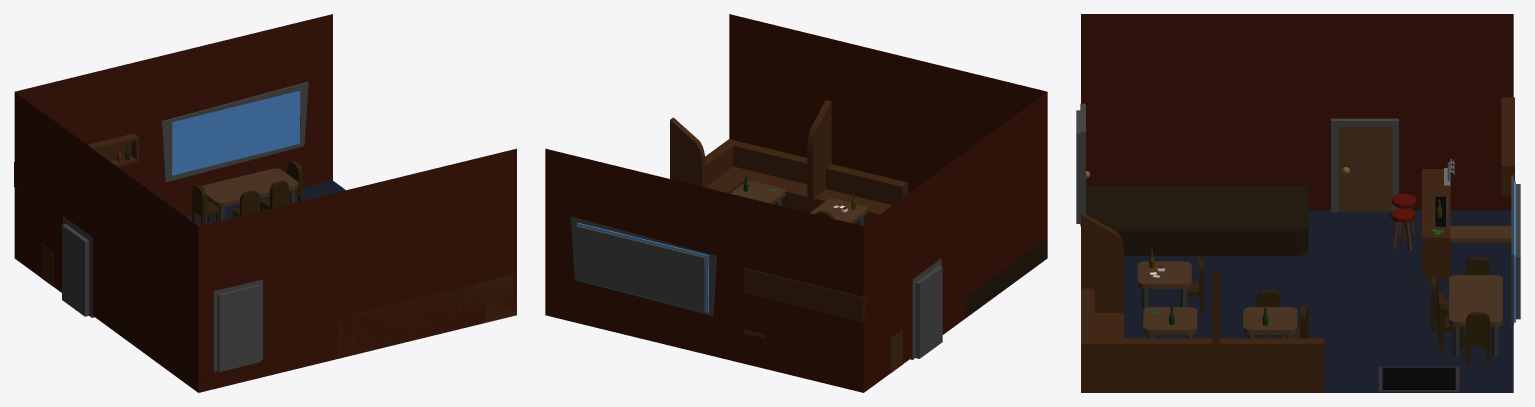
The model's file is Bar.glb.
The picture shows the model from 3 angles, left to right: view 1: azimuth 30°, elevation 25°; view 2: azimuth 150°, elevation 25°; view 3: azimuth 270°, elevation 25°; orthographic projection. The views are drawn at different scales.
Visible parts, largest first — view 1: Left Wall, Front Wall, RightWall, Window, Couch, DoorStage, DoorBack, Table.001, Shelf, Stage1, Floor, Chair7 (+3 smaller); view 2: RightWall, Left Wall, Front Wall, Window, Couch, Shelf, DoorBack, Blocker2, Blocker1, Stage1, Table.002, Table.003 (+2 smaller); view 3: Front Wall, Floor, Couch, Stage2, Stage1, DoorBackInside, Blocker1, Table.001, Bar, DoorBack, Table.002, Exit1 (+16 smaller).
Part boxes in pixels (x1,y1,x2,y2): Left Wall: [198, 148, 516, 392]; Front Wall: [14, 92, 198, 392]; RightWall: [15, 14, 332, 216]; Window: [161, 81, 308, 182]; Couch: [337, 274, 516, 358]; DoorStage: [213, 279, 262, 372]; DoorBack: [62, 216, 94, 317]; Table.001: [202, 168, 298, 220]; Shelf: [14, 133, 139, 188]; Stage1: [143, 332, 244, 392]; Floor: [186, 180, 345, 226]; Chair7: [192, 184, 219, 225]; RightWall: [545, 148, 863, 392]; Left Wall: [729, 14, 1047, 193]; Front Wall: [863, 92, 1047, 392]; Window: [570, 216, 716, 316]; Couch: [705, 139, 908, 225]; Shelf: [743, 268, 866, 322]; DoorBack: [910, 258, 942, 359]; Blocker2: [670, 117, 705, 187]; Blocker1: [807, 100, 831, 203]; Stage1: [997, 238, 1047, 294]; Table.002: [810, 198, 867, 226]; Table.003: [730, 181, 785, 205]; Front Wall: [1081, 14, 1513, 209]; Floor: [1124, 210, 1513, 392]; Couch: [1081, 288, 1324, 392]; Stage2: [1200, 185, 1308, 255]; Stage1: [1086, 185, 1210, 255]; DoorBackInside: [1338, 127, 1392, 211]; Blocker1: [1081, 212, 1124, 312]; Table.001: [1449, 275, 1502, 356]; Bar: [1422, 169, 1450, 278]; DoorBack: [1331, 118, 1398, 212]; Table.002: [1137, 261, 1191, 318]; Exit1: [1382, 367, 1455, 389].
Bounding box in the file's own units: 16.21 × 8.2 × 16.42.
